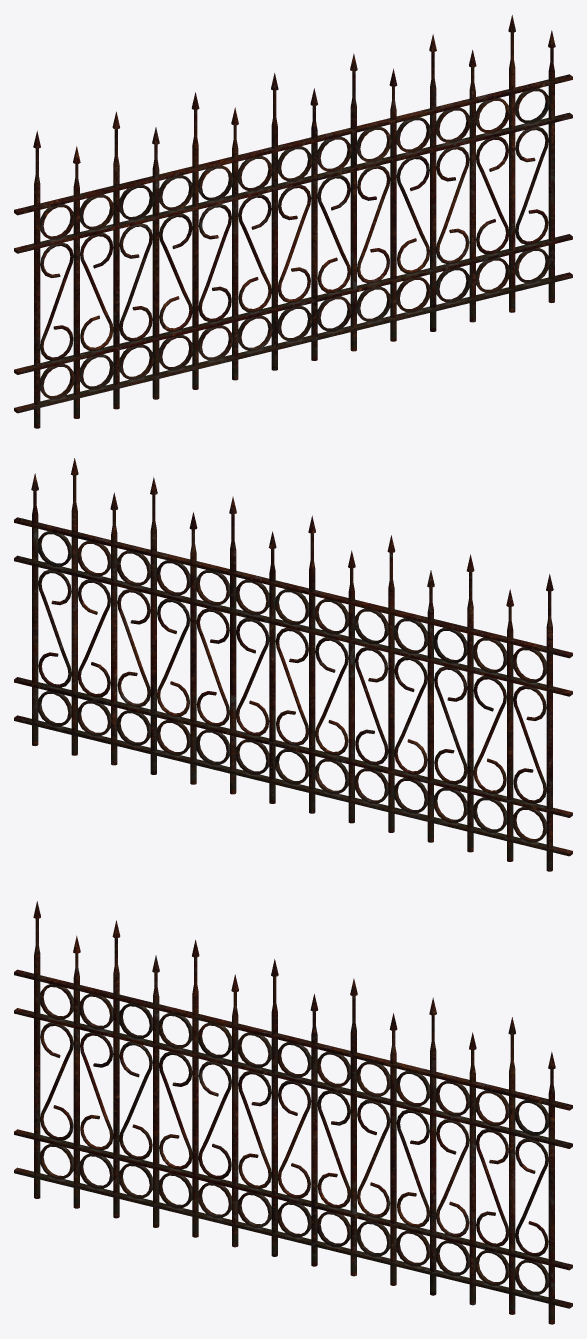
File: SM_fence_12.fbx
3 renders of one model, top to bottom at view 1: azimuth 30°, elevation 25°; view 2: azimuth 150°, elevation 25°; view 3: azimuth 330°, elevation 25°, orthographic.
Visible parts, largest first — view 1: SM_fence_12; view 2: SM_fence_12; view 3: SM_fence_12.
Part boxes in pixels (<box>): SM_fence_12: <box>14,15,572,428</box>; SM_fence_12: <box>14,458,572,871</box>; SM_fence_12: <box>14,901,572,1324</box>.
Size of the model in its own units: 260 by 133 by 3.25.
